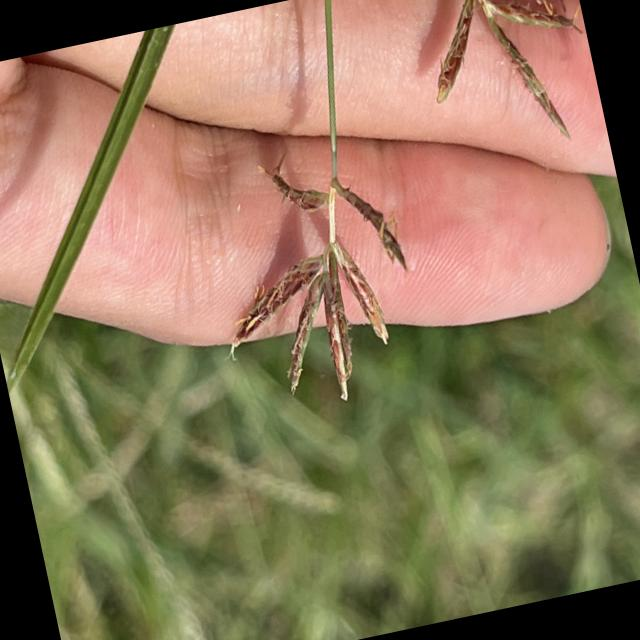cyperus: (184, 116, 435, 424), (391, 0, 611, 194)
